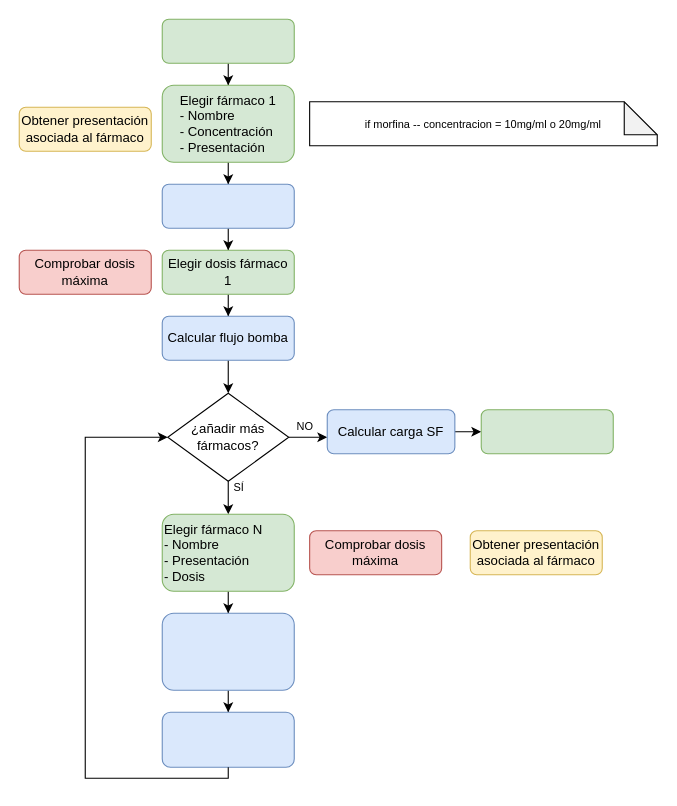
This 677x806 diagram has some shape labels left out. Here are the shapes that lost their labels. From the top down, the box of each, then its label:
(161, 18, 294, 63): Elegir volumen bomba
(161, 183, 294, 228): Calcular cantidad y la carga del fármaco 1
(480, 409, 613, 454): Mostrar receta
(161, 612, 294, 690): Calcular concentración fármaco N (marcada por el fármaco 1)
(161, 711, 294, 767): Calcular la cantidad y la carga del fármaco N
